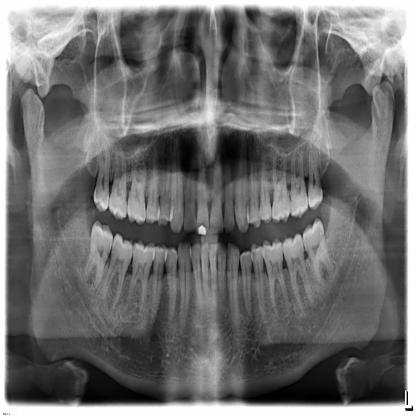canine: (178, 240, 193, 334), (170, 139, 184, 234), (235, 134, 248, 234), (227, 244, 241, 333)
cental incisor: (209, 152, 223, 235), (197, 153, 209, 235), (208, 244, 217, 312), (200, 246, 209, 311)
lareral incisor: (184, 161, 197, 231), (189, 244, 202, 312), (216, 243, 227, 313), (224, 158, 234, 232)
mandible: (20, 80, 397, 400)
maxilla: (84, 126, 331, 238)
molar: (124, 240, 156, 323), (100, 234, 134, 312), (303, 216, 335, 291), (284, 234, 313, 315), (82, 222, 113, 291), (263, 239, 289, 316), (125, 151, 147, 225), (272, 145, 291, 224), (289, 145, 308, 218), (109, 142, 127, 218), (307, 143, 323, 210), (94, 147, 109, 213)
premolar: (151, 246, 166, 335), (251, 243, 266, 327), (158, 147, 172, 230), (247, 148, 261, 227), (165, 248, 179, 327), (146, 151, 161, 223), (239, 249, 252, 321), (260, 153, 272, 224)
